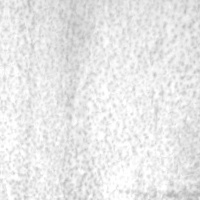pitted_surface: (1, 0, 199, 199)
